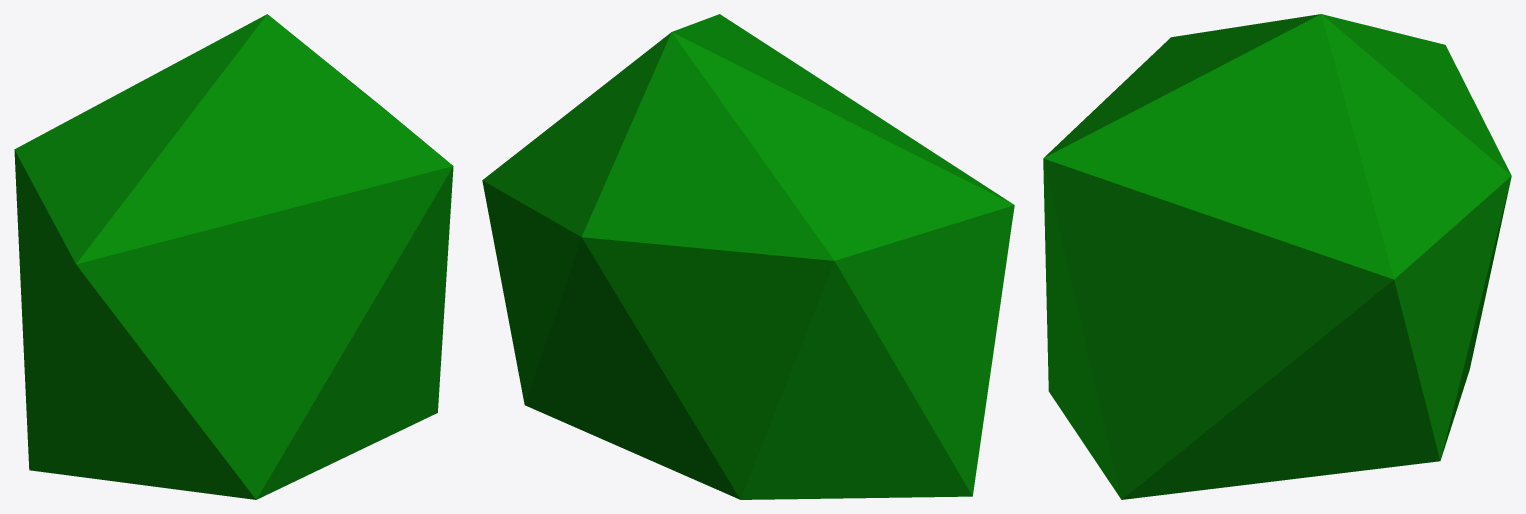
The model's file is Bush_2a.fbx.
3 renders of one model, left to right at view 1: azimuth 30°, elevation 25°; view 2: azimuth 150°, elevation 25°; view 3: azimuth 270°, elevation 25°, orthographic. The views are drawn at different scales.
Visible parts, largest first — view 1: Bush_2a; view 2: Bush_2a; view 3: Bush_2a.
Boxes of the visible parts, x1=… form: Bush_2a: x1=14, y1=14, x2=453, y2=499; Bush_2a: x1=482, y1=14, x2=1014, y2=499; Bush_2a: x1=1043, y1=14, x2=1511, y2=499.
Size of the model in its own units: 178 by 172 by 149.
